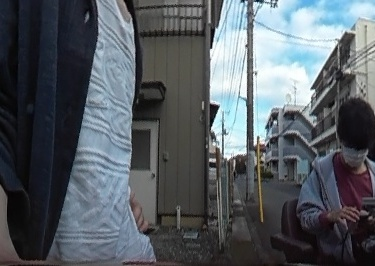person: (298, 99, 375, 266)
